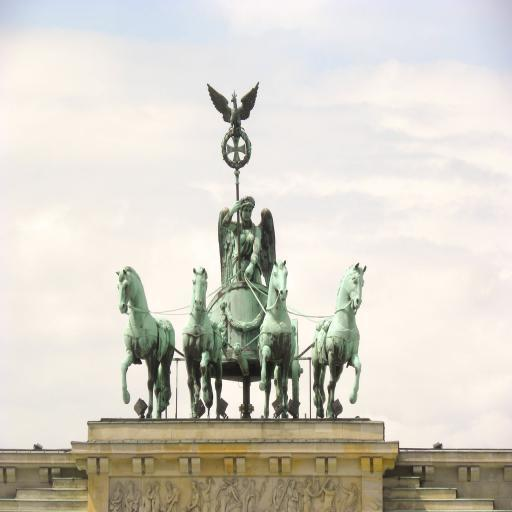horse: (116, 267, 176, 417), (310, 264, 367, 420), (257, 260, 297, 419), (182, 267, 222, 420)
